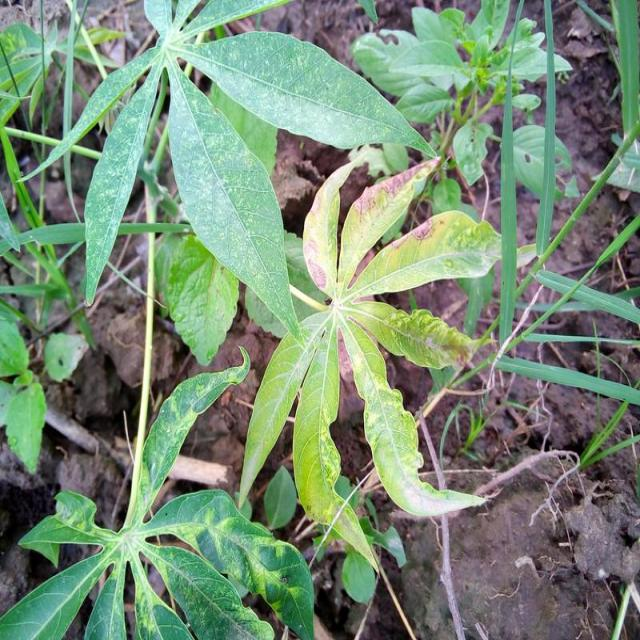cassava leaf: (19, 0, 440, 334), (237, 148, 512, 574), (0, 343, 314, 637), (164, 56, 302, 342), (178, 29, 438, 159)
